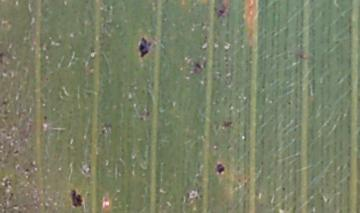tarspot: (137, 36, 153, 59), (69, 187, 83, 209), (214, 162, 225, 175), (218, 1, 227, 16), (222, 118, 233, 128), (193, 61, 204, 70), (1, 51, 6, 67), (41, 114, 49, 123), (12, 148, 20, 154), (281, 185, 287, 193), (24, 166, 30, 173), (100, 128, 106, 135), (1, 100, 9, 104)
